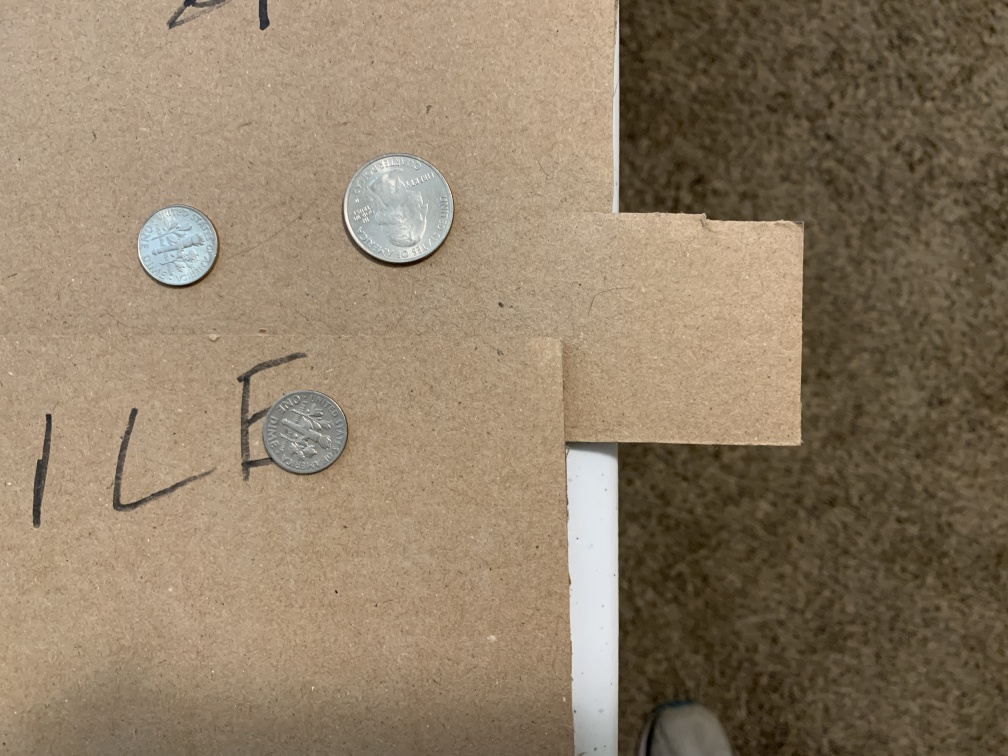dime: (255, 387, 354, 481), (135, 203, 221, 293)
quarter: (338, 152, 459, 270)
